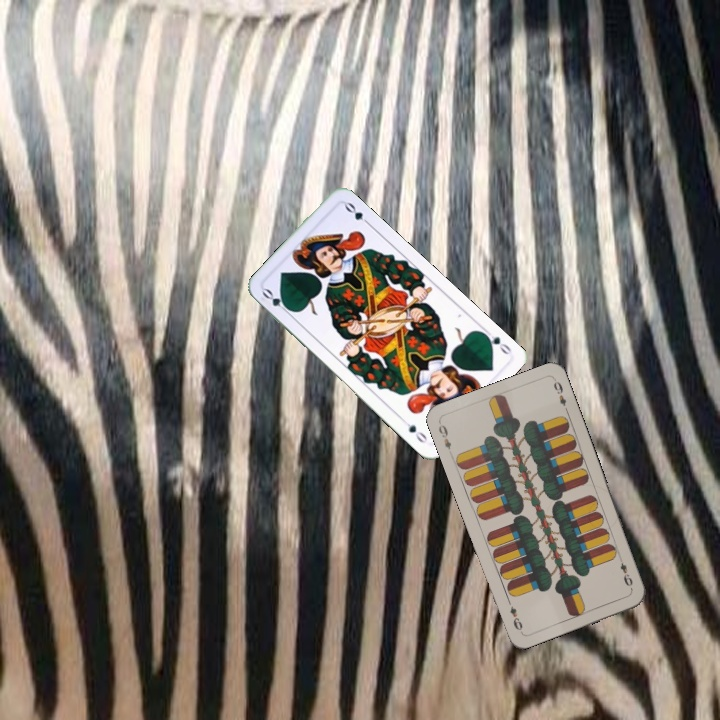E9: (434, 421, 455, 458), (615, 553, 635, 589)
GO: (258, 284, 295, 317), (478, 325, 514, 357)
